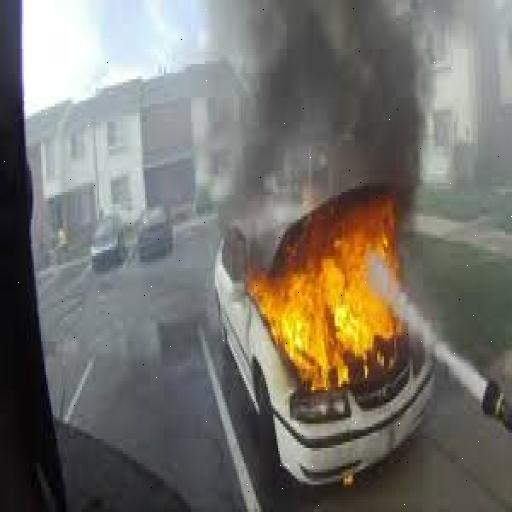fire: (275, 213, 425, 384)
